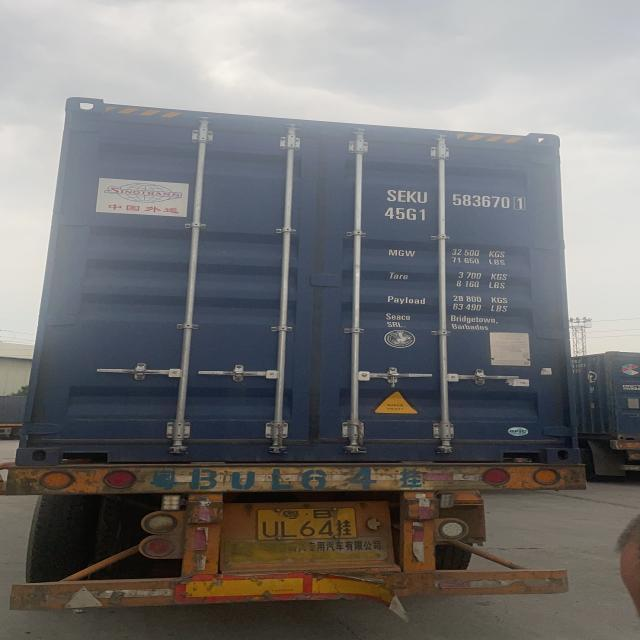ISO: (382, 206, 434, 223)
container_number: (388, 192, 524, 210)
